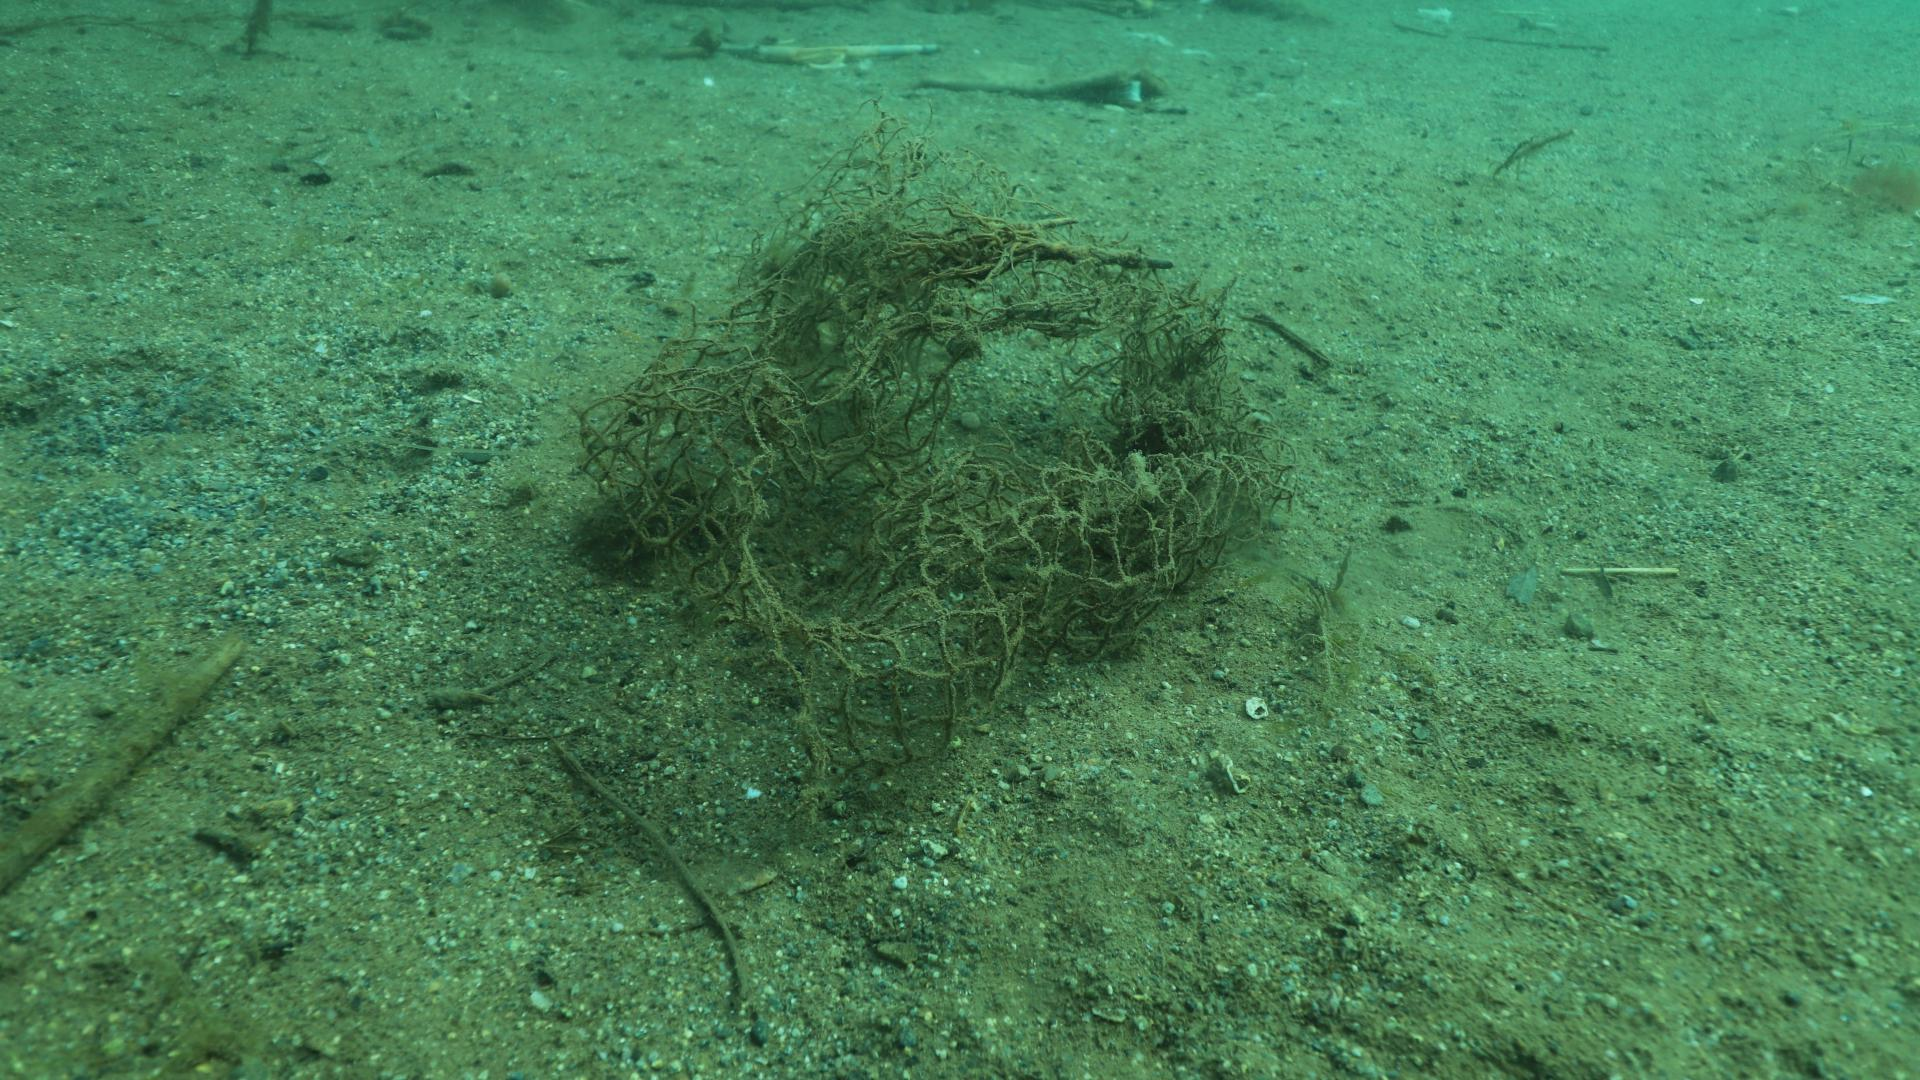fish net: (578, 398, 1305, 775)
